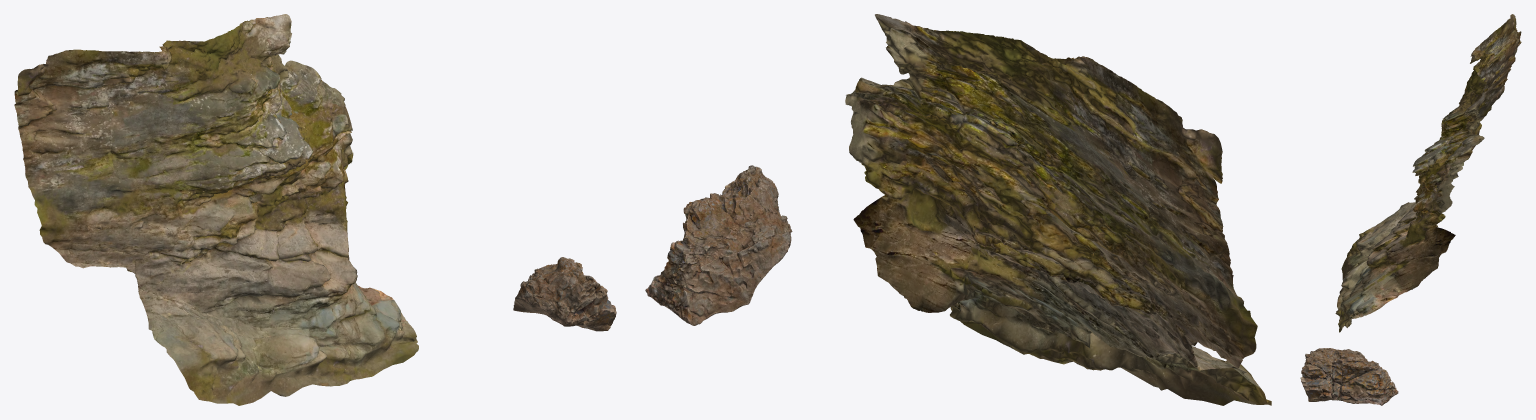
3 views of the same model, side by side, from view 1: azimuth 30°, elevation 25°; view 2: azimuth 150°, elevation 25°; view 3: azimuth 270°, elevation 25° (orthographic). The views are drawn at different scales.
Visible parts, largest first — view 1: rock_face_02, boulder_01_LOD0; view 2: rock_face_02, boulder_01_LOD0; view 3: rock_face_02, boulder_01_LOD0.
Part boxes in pixels (x1,y1,x2,y2): rock_face_02: (14, 14, 418, 405); boulder_01_LOD0: (513, 257, 616, 331); rock_face_02: (845, 14, 1271, 405); boulder_01_LOD0: (645, 165, 792, 325); rock_face_02: (1335, 14, 1521, 332); boulder_01_LOD0: (1300, 348, 1398, 405).
Bounding box in the file's own units: 7.91 × 4.73 × 4.13.
Materials: 2 (2 with a texture image).
